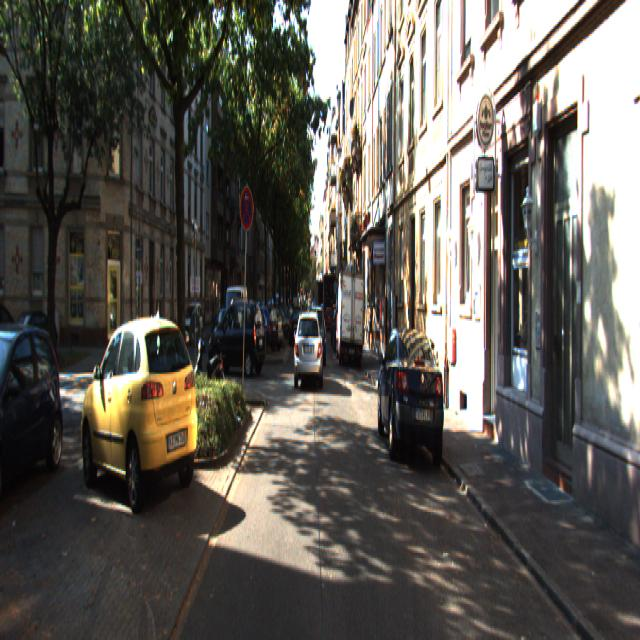Car: (81, 308, 202, 518), (0, 326, 68, 500), (375, 316, 449, 467), (206, 297, 266, 378), (294, 309, 324, 386), (306, 305, 326, 366)
DontCare: (260, 297, 292, 347)
Misc: (192, 322, 226, 414)
Van: (336, 270, 366, 364)
